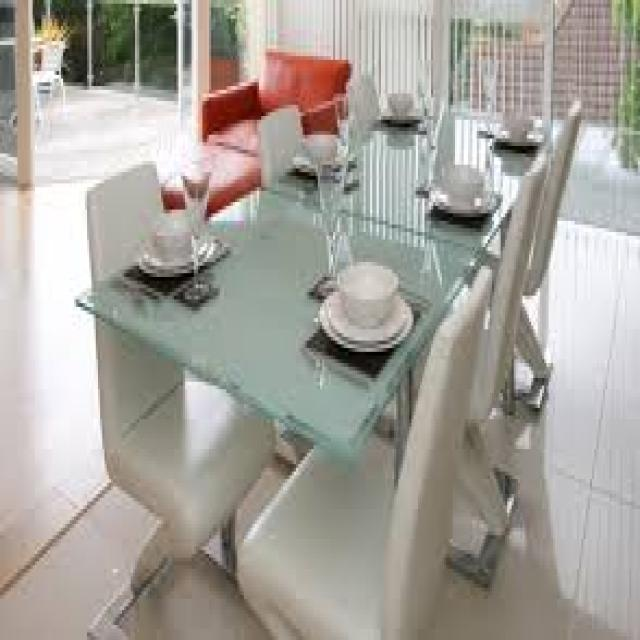obstacle: (68, 89, 253, 626), (349, 227, 486, 640)
